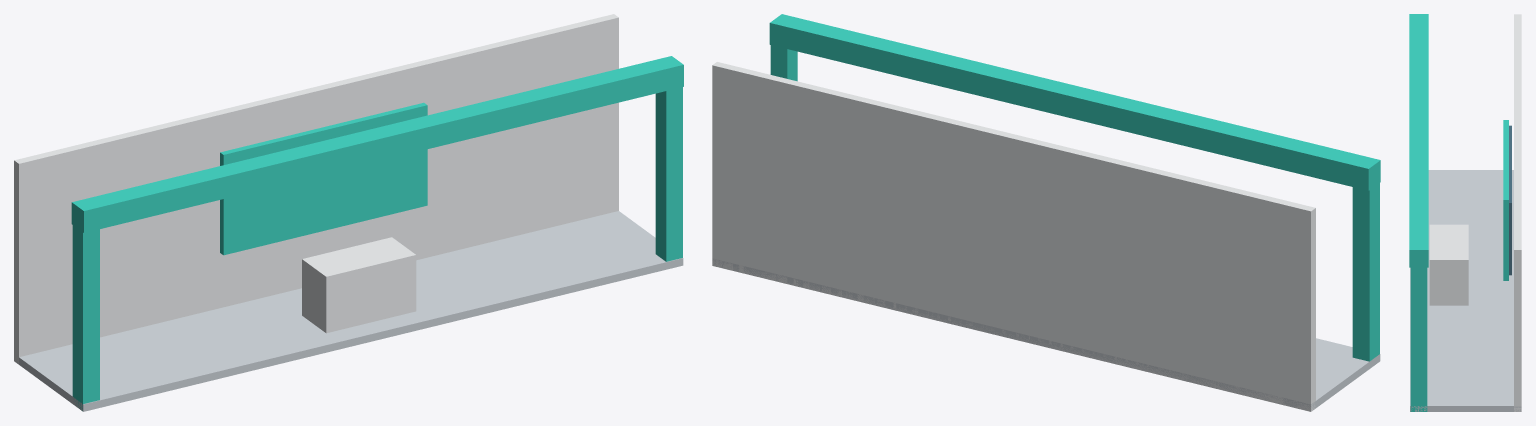
3 renders of one model, left to right at view 1: azimuth 30°, elevation 25°; view 2: azimuth 150°, elevation 25°; view 3: azimuth 270°, elevation 25°, orthographic. The views are drawn at different scales.
Visible parts, largest first — view 1: Exhibition Booth Concept; view 2: Exhibition Booth Concept; view 3: Exhibition Booth Concept.
Boxes of the visible parts, x1=… form: Exhibition Booth Concept: x1=14, y1=14, x2=683, y2=411; Exhibition Booth Concept: x1=712, y1=14, x2=1380, y2=411; Exhibition Booth Concept: x1=1409, y1=14, x2=1521, y2=411.
Size of the model in its own units: 10 by 3.2 by 2.01.
